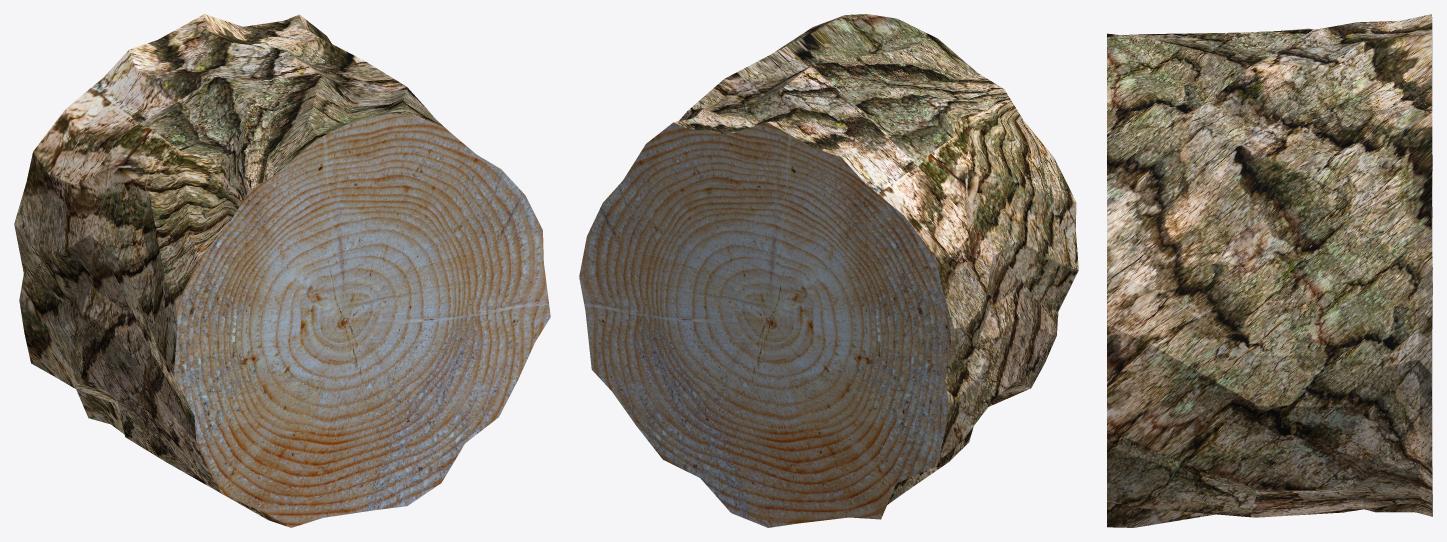
Rendered from Stump3.gltf.
3 views of the same model, side by side, from view 1: azimuth 30°, elevation 25°; view 2: azimuth 150°, elevation 25°; view 3: azimuth 270°, elevation 25° (orthographic). The views are drawn at different scales.
Visible parts, largest first — view 1: Cylinder; view 2: Cylinder; view 3: Cylinder.
Part boxes in pixels (bbox=[...]): Cylinder: bbox=[14, 14, 550, 527]; Cylinder: bbox=[579, 14, 1078, 527]; Cylinder: bbox=[1107, 14, 1432, 527].
Bounding box in the file's own units: 3.25 × 3.26 × 2.06.
2 materials, 2 textured.
